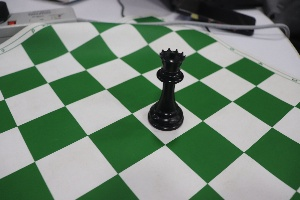black_queen: (138, 32, 187, 134)
